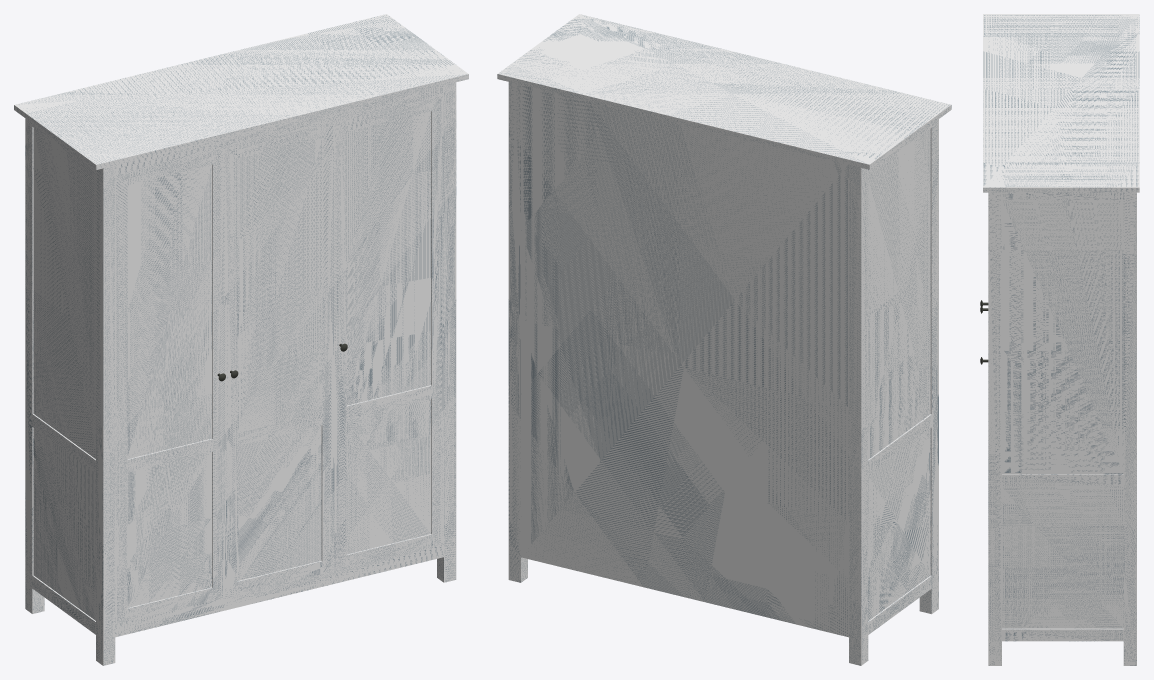
The model's file is closet.fbx.
The picture shows the model from 3 angles, left to right: view 1: azimuth 30°, elevation 25°; view 2: azimuth 150°, elevation 25°; view 3: azimuth 270°, elevation 25°; orthographic projection. The views are drawn at different scales.
Visible parts, largest first — view 1: Component_8_1; view 2: Component_8_1; view 3: Component_8_1.
Part boxes in pixels (bbox=[...]): Component_8_1: bbox=[14, 14, 468, 665]; Component_8_1: bbox=[497, 14, 951, 665]; Component_8_1: bbox=[983, 14, 1139, 665].
Bounding box in the file's own units: 1.52 × 1.97 × 0.5899.
